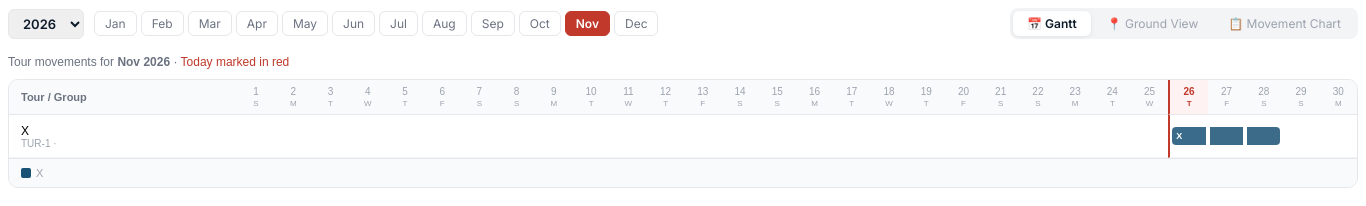
Test: GanttView UI: Ground View tab › a tour with no itinerary entered yet shows a clear message, not a blank/broken card
Click the button "📍 Ground View" at {"x": 1152, "y": 24}, box [1093,11,1212,36]
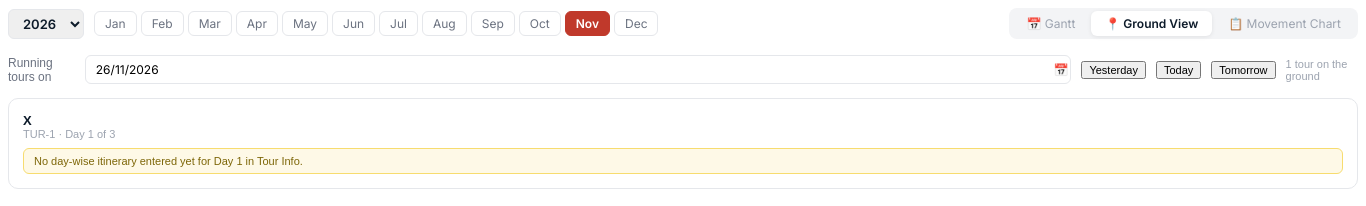
Expected: the text "No day-wise itinerary entered yet for Day 1 in Tour Info." is shown, [23,148,1343,174]
